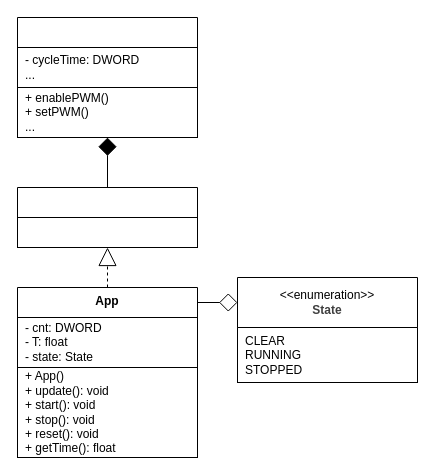
The diagram is 435 pixels wide and 475 high, and some of its shapes have lost their labels. Here are the shapes that lost their labels. From the top down, the centre of each, then its label:
At [107,32]: "Timer".
At [107,202]: "Task".
At [107,232]: "+ update(): void".
